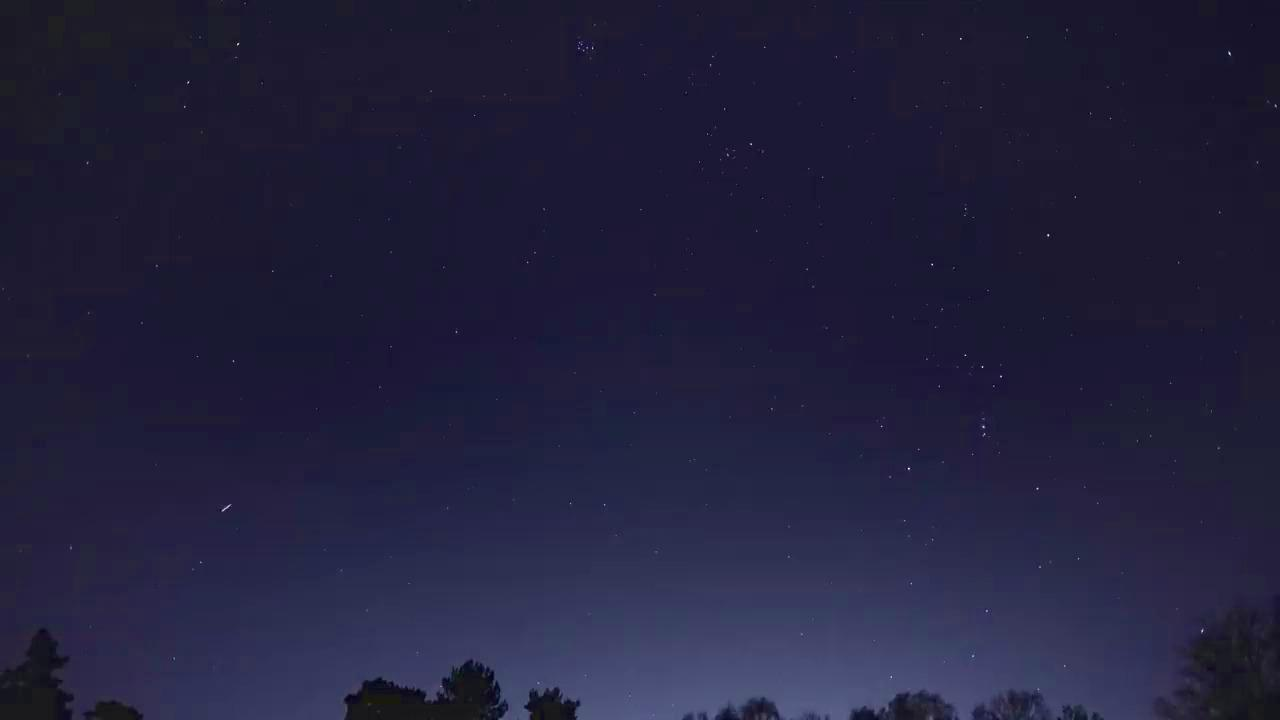meteorite: (206, 498, 246, 516)
